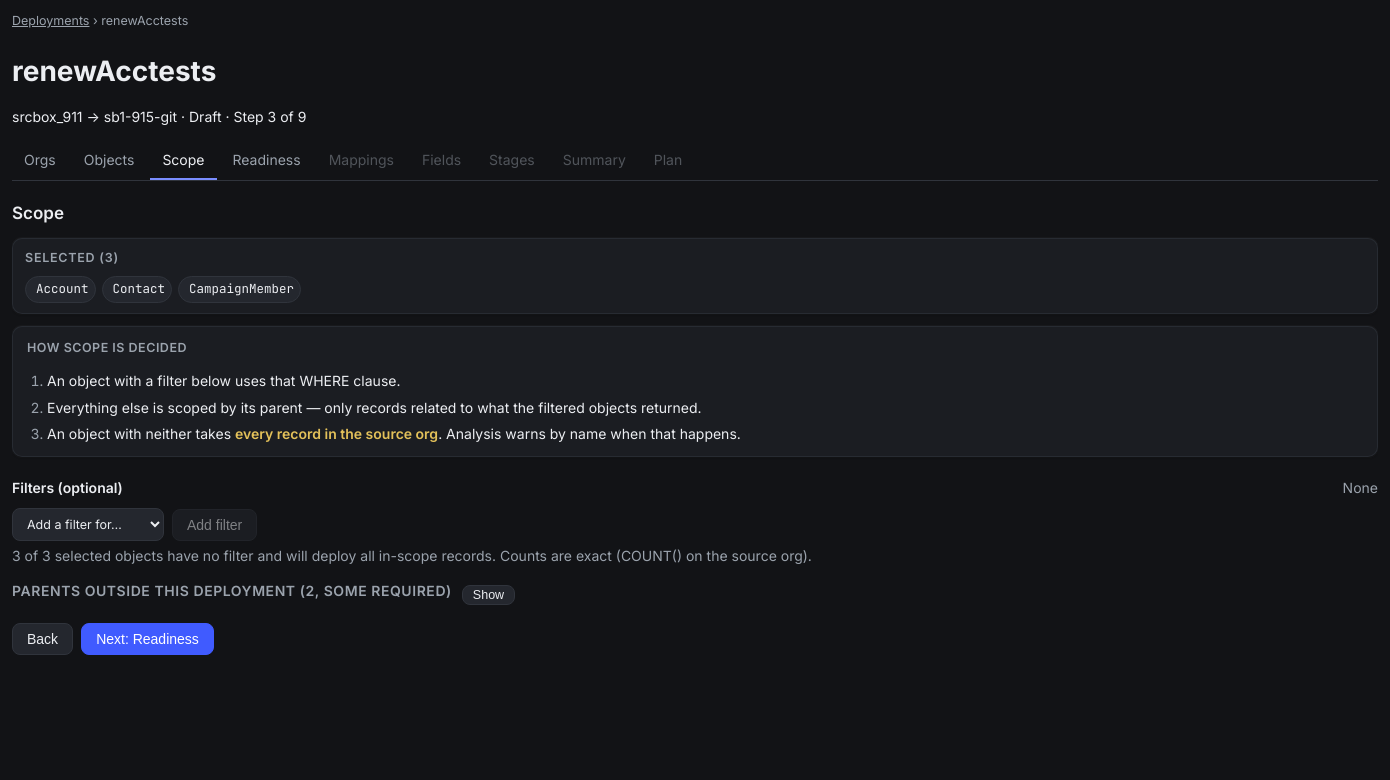
StepScope — S57 B2: parents outside this deployment › is collapsed by default with a count, and Show/Hide toggles the cards (Jack, 2026-09-18)
expect the heading "Parents outside this deployment (2, some required)" is shown: met, box [12,580,452,601]
Step 1. Click the button "Show" → (489, 595), box [462,585,515,605]
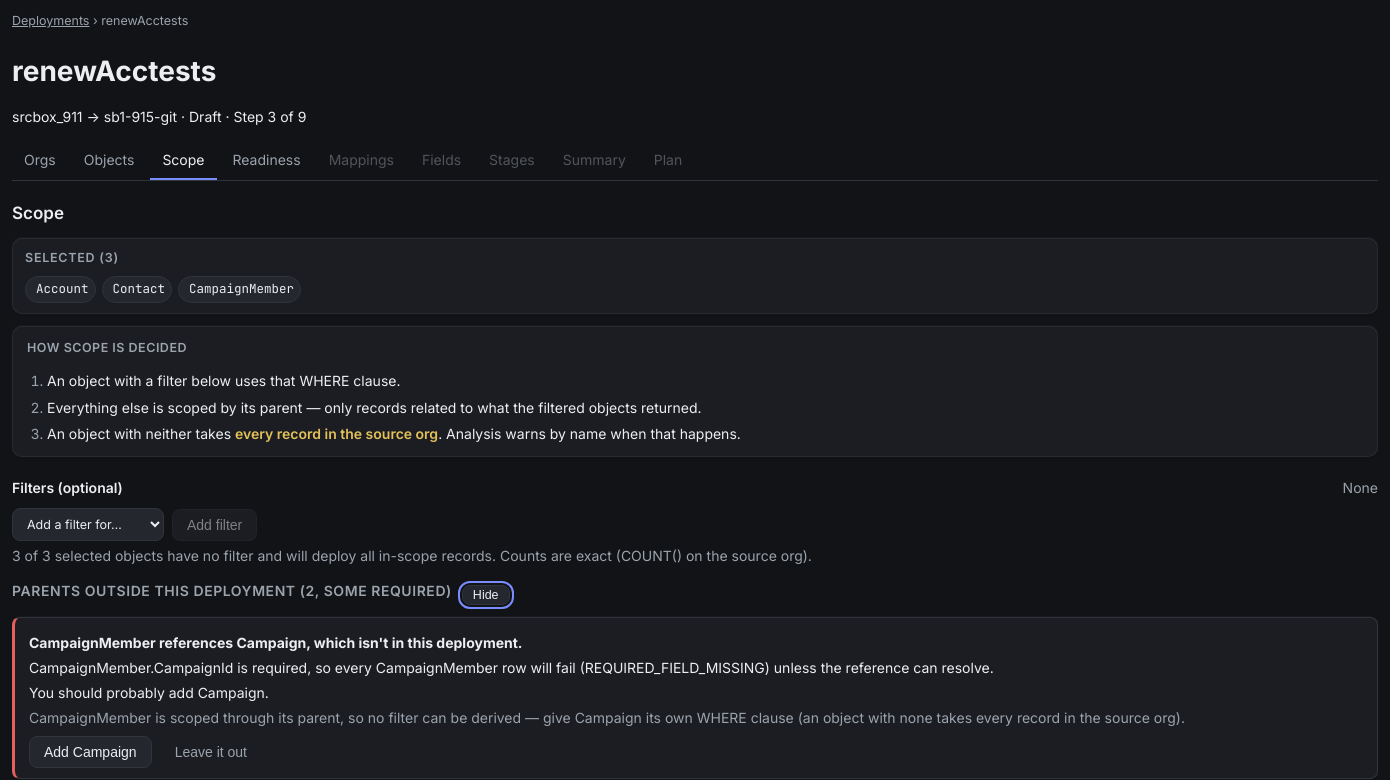
expect the element with test id "advisor-Campaign" is shown: met, box [12,617,1378,779]
Step 2. Click the button "Hide" → (486, 595), box [462,585,510,605]
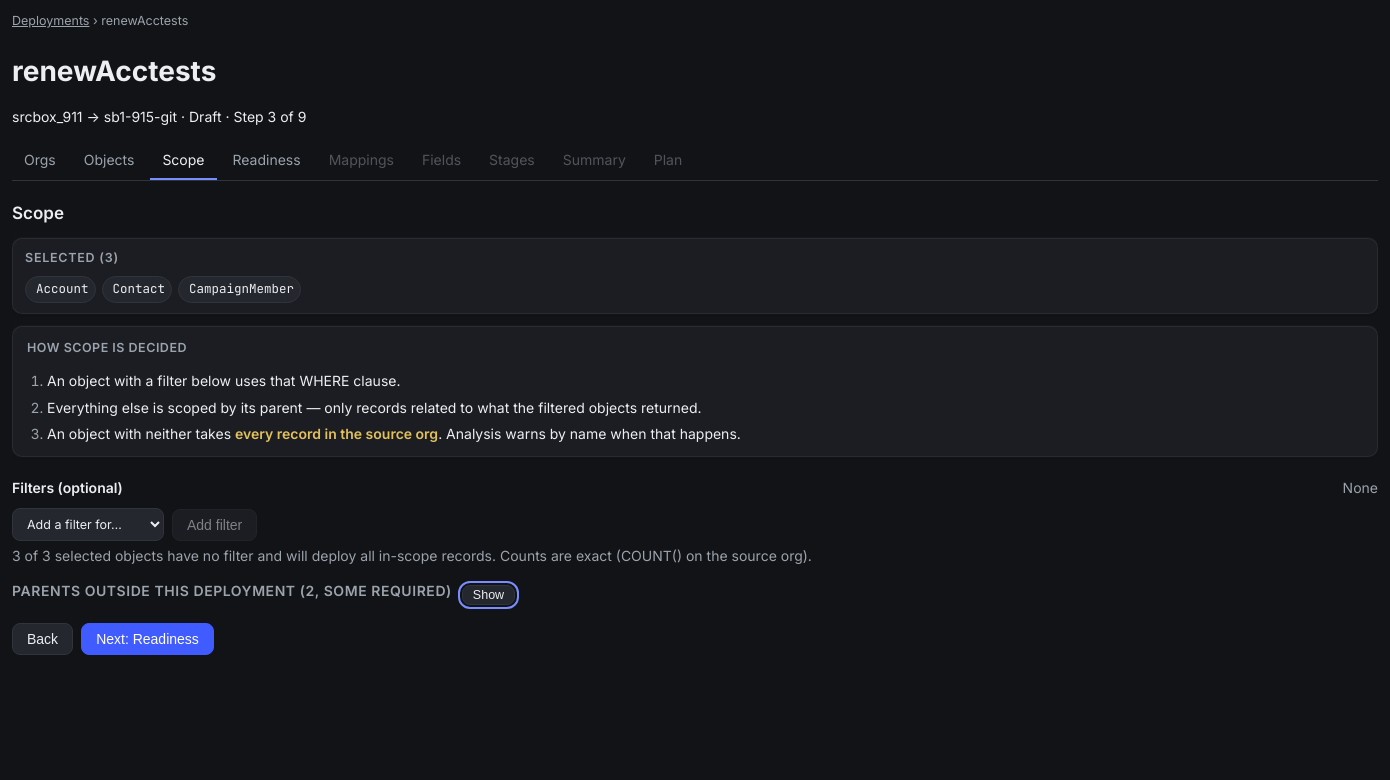
expect the element with test id "advisor-Campaign" is gone: met
